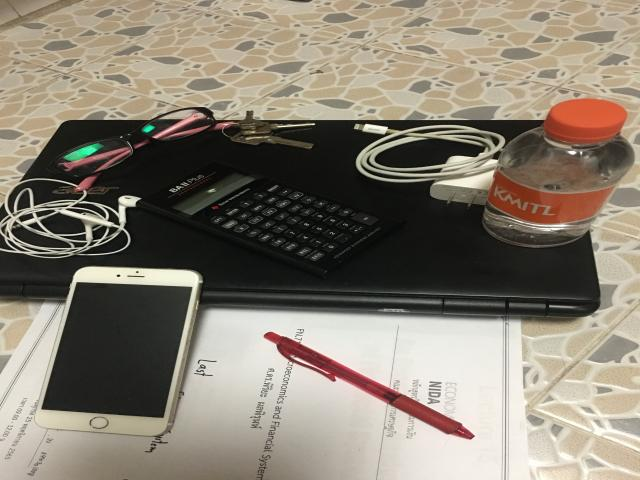Glasses: (48, 107, 232, 191)
Keys: (222, 111, 315, 149)
Mobile phone: (35, 266, 202, 436)
Pen: (263, 332, 475, 439)
bottle: (483, 98, 635, 248)
paper: (0, 301, 528, 480)
wire: (353, 124, 505, 205), (0, 178, 140, 259)
